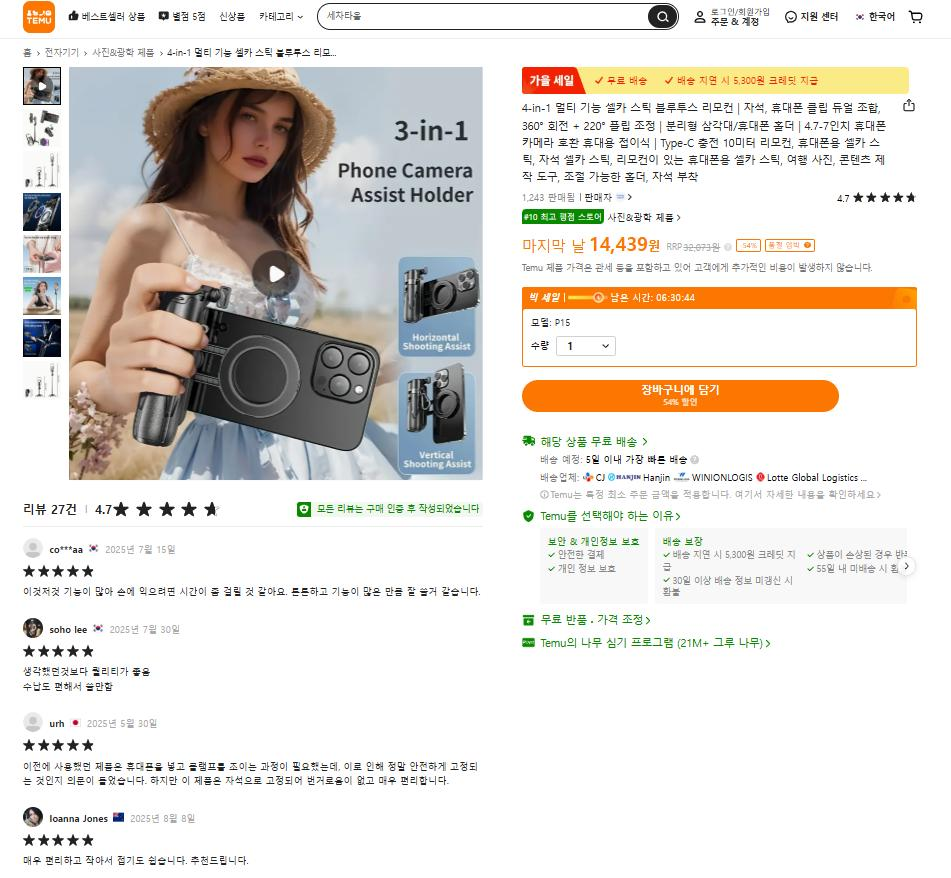button: (522, 376, 848, 418), (540, 636, 781, 651), (544, 506, 709, 525), (537, 428, 655, 452), (63, 0, 146, 34), (693, 2, 777, 32), (537, 612, 663, 632), (778, 0, 844, 35), (609, 206, 685, 230), (23, 194, 63, 238), (154, 0, 208, 32), (22, 64, 62, 107), (853, 0, 900, 36), (21, 109, 61, 149), (22, 150, 62, 189), (23, 240, 63, 279), (23, 280, 63, 319), (22, 318, 62, 357), (22, 360, 62, 399), (586, 188, 645, 207), (216, 0, 250, 32), (908, 2, 934, 35), (898, 92, 922, 120), (895, 554, 917, 581)
checkbox: (255, 1, 309, 35), (557, 333, 617, 356)
input_field: (318, 3, 685, 34)
popup: (522, 62, 914, 94)
